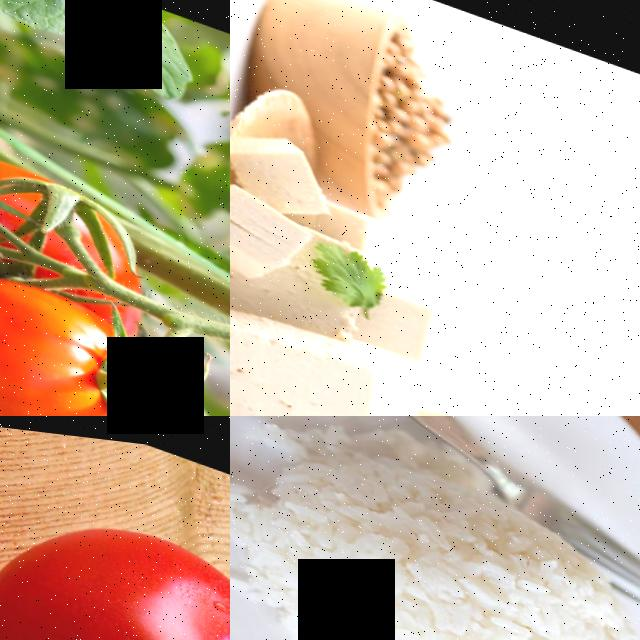tofu: (230, 279, 383, 416), (230, 114, 330, 222), (230, 172, 313, 291), (361, 266, 442, 363), (396, 371, 523, 416)
tomato: (0, 453, 230, 640), (0, 228, 204, 416)
white rice: (230, 416, 633, 640)
